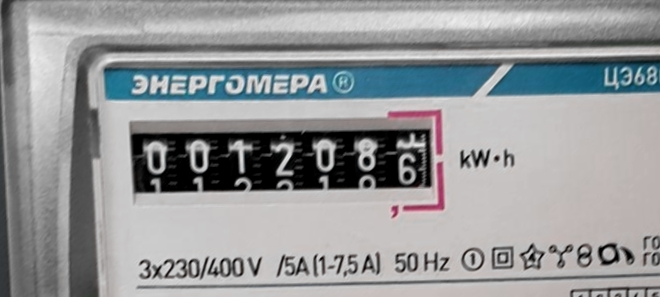0: (140, 135, 168, 175), (185, 136, 210, 174), (310, 135, 335, 172)
1: (227, 135, 249, 175)
2: (269, 138, 296, 177)
6: (392, 149, 417, 185)
8: (351, 134, 377, 172)
screen: (120, 100, 453, 227)
